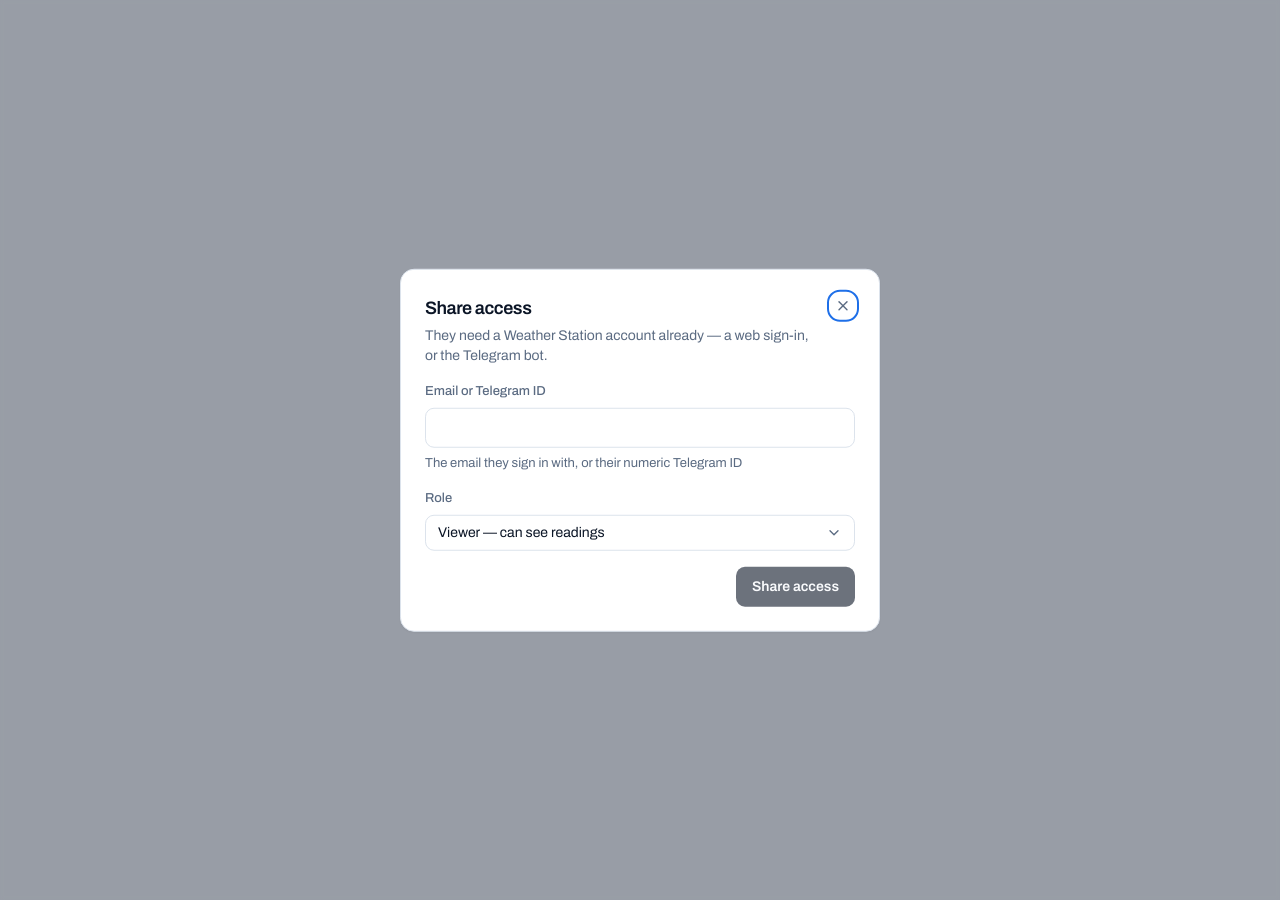
Scenario: ShareDialog › shows the field error when the email matches no account
Type "ghost@example.com" into the field with test id "share-identifier-input" at (640, 427), box [425,407,855,447]
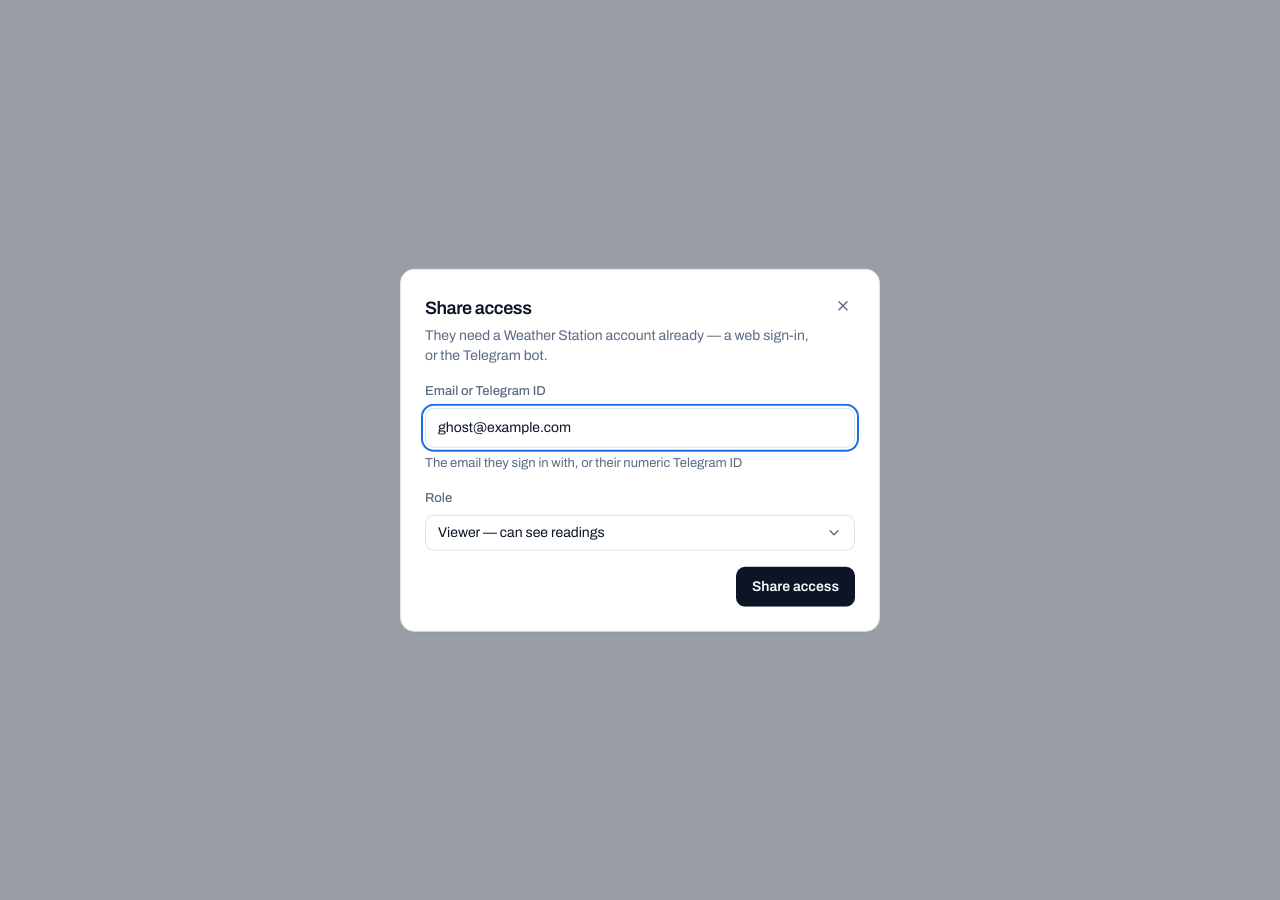
Click the button with test id "share-submit" at (796, 586), box [736,566,855,606]
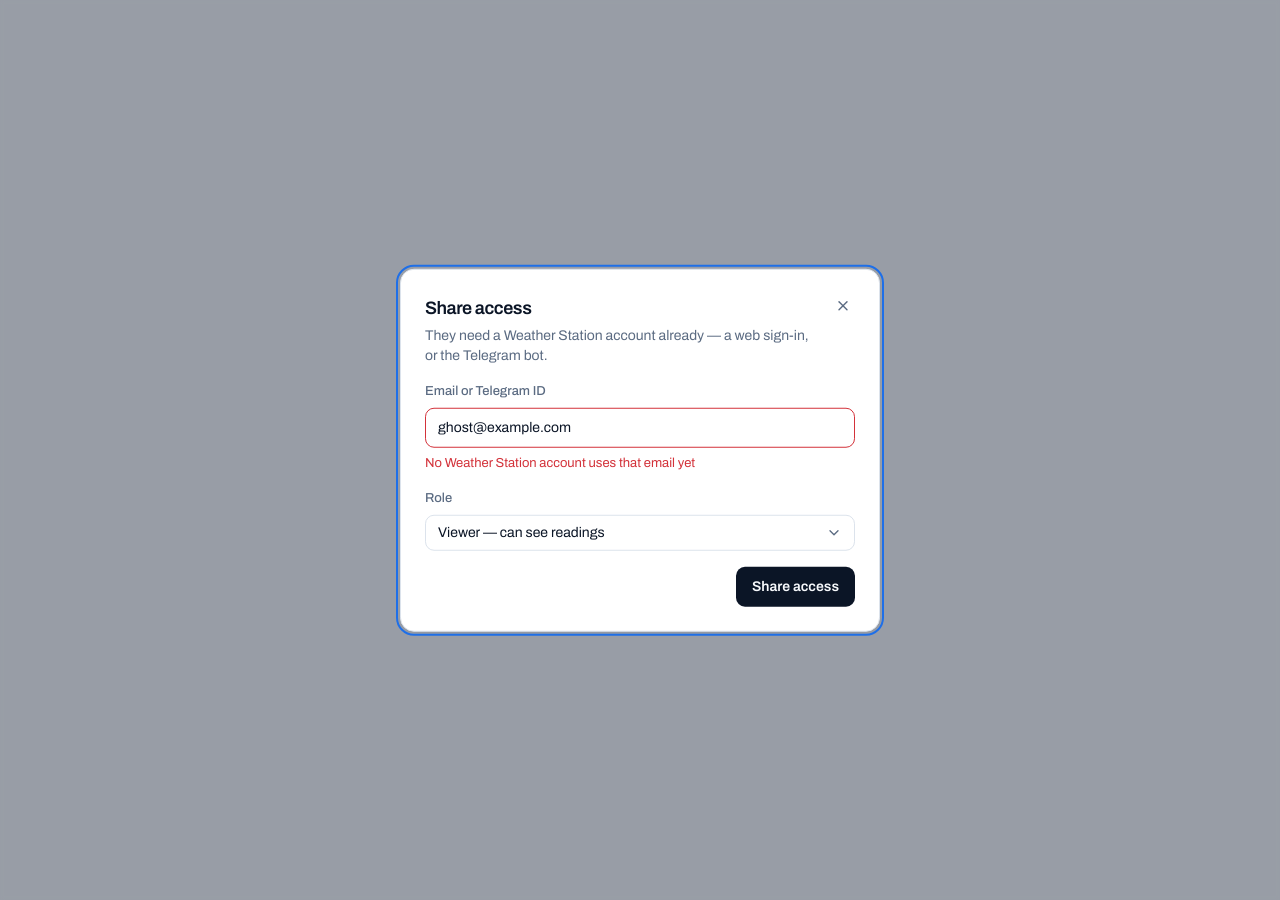
Expected: the text "No Weather Station account uses that email yet" is shown, [425,455,695,469]
